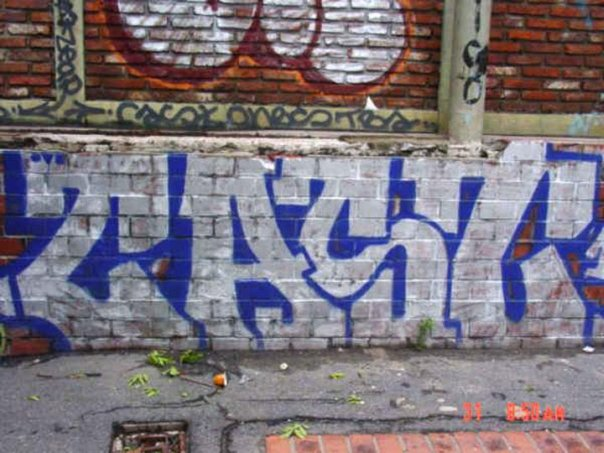graffity: (1, 137, 600, 350), (2, 2, 441, 135), (102, 1, 413, 97)
